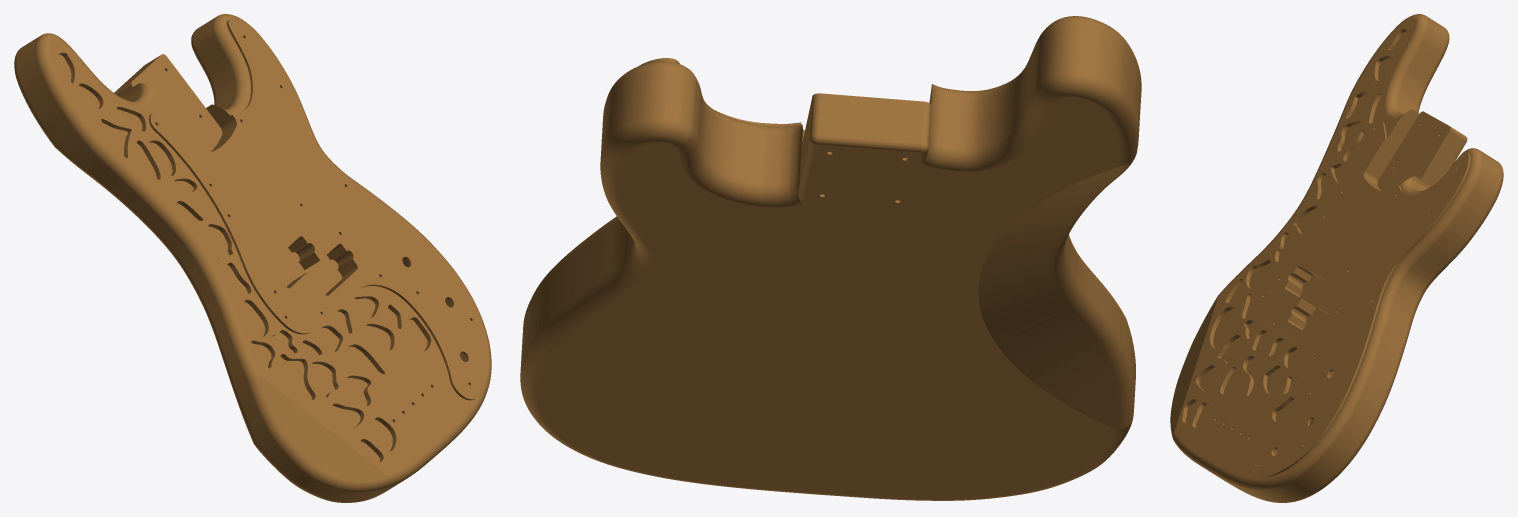
Rendered from giraffe_guitar_opt.glb.
3 views of the same model, side by side, from view 1: azimuth 30°, elevation 25°; view 2: azimuth 150°, elevation 25°; view 3: azimuth 270°, elevation 25° (orthographic). The views are drawn at different scales.
Visible parts, largest first — view 1: body; view 2: body; view 3: body.
Boxes of the visible parts, box(x1,y1,x2,y2) form: body: box(14, 14, 491, 502); body: box(520, 16, 1141, 500); body: box(1170, 14, 1503, 502).
Bounding box in the file's own units: 20.26 × 20.24 × 16.85.
